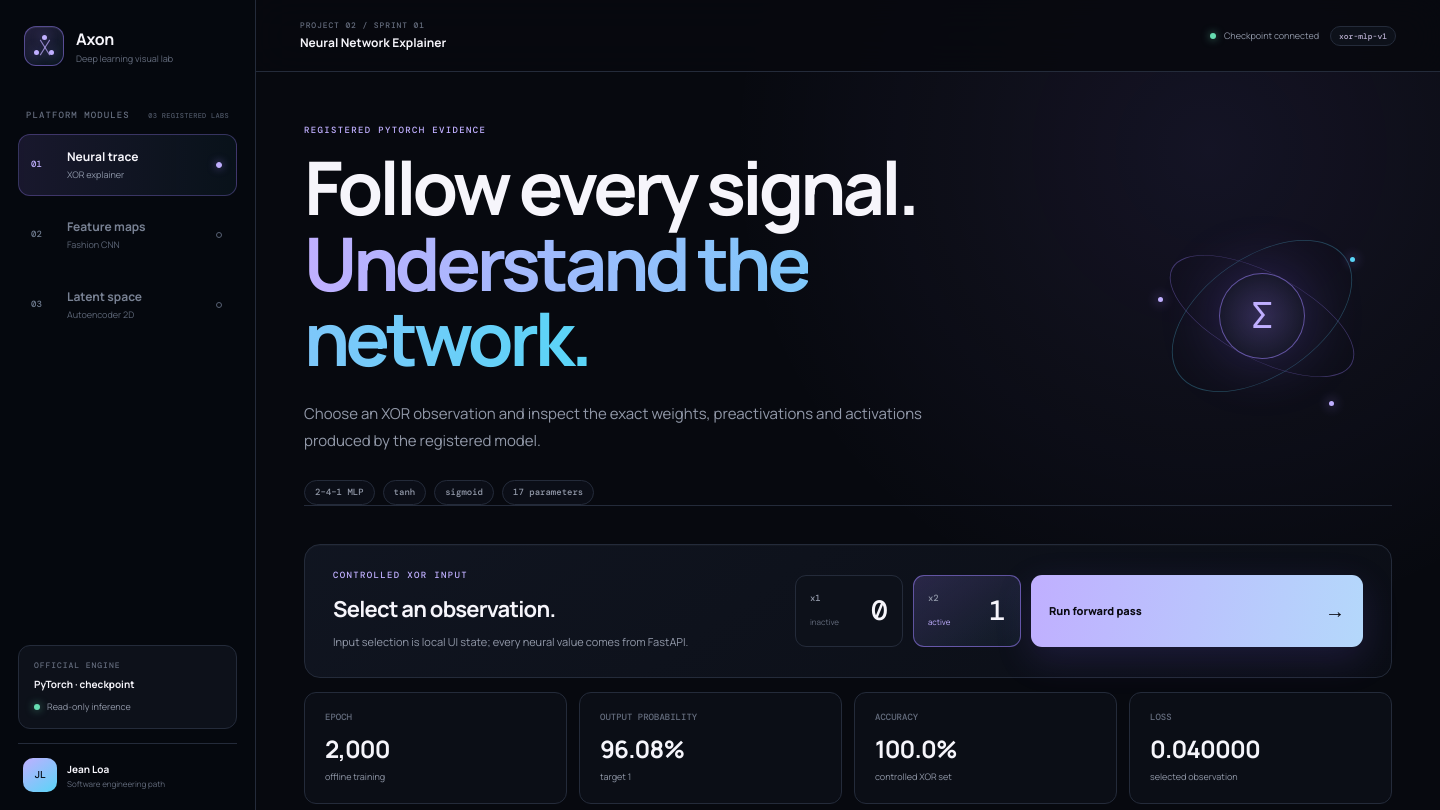
NeuralNetworkExplainer › requests a forward pass for the selected binary inputs
Expected: the text "96.08%" is shown, [600, 732, 684, 765]
Click the button with aria-label "Toggle x1".
click(849, 611)  # box [795, 575, 903, 647]
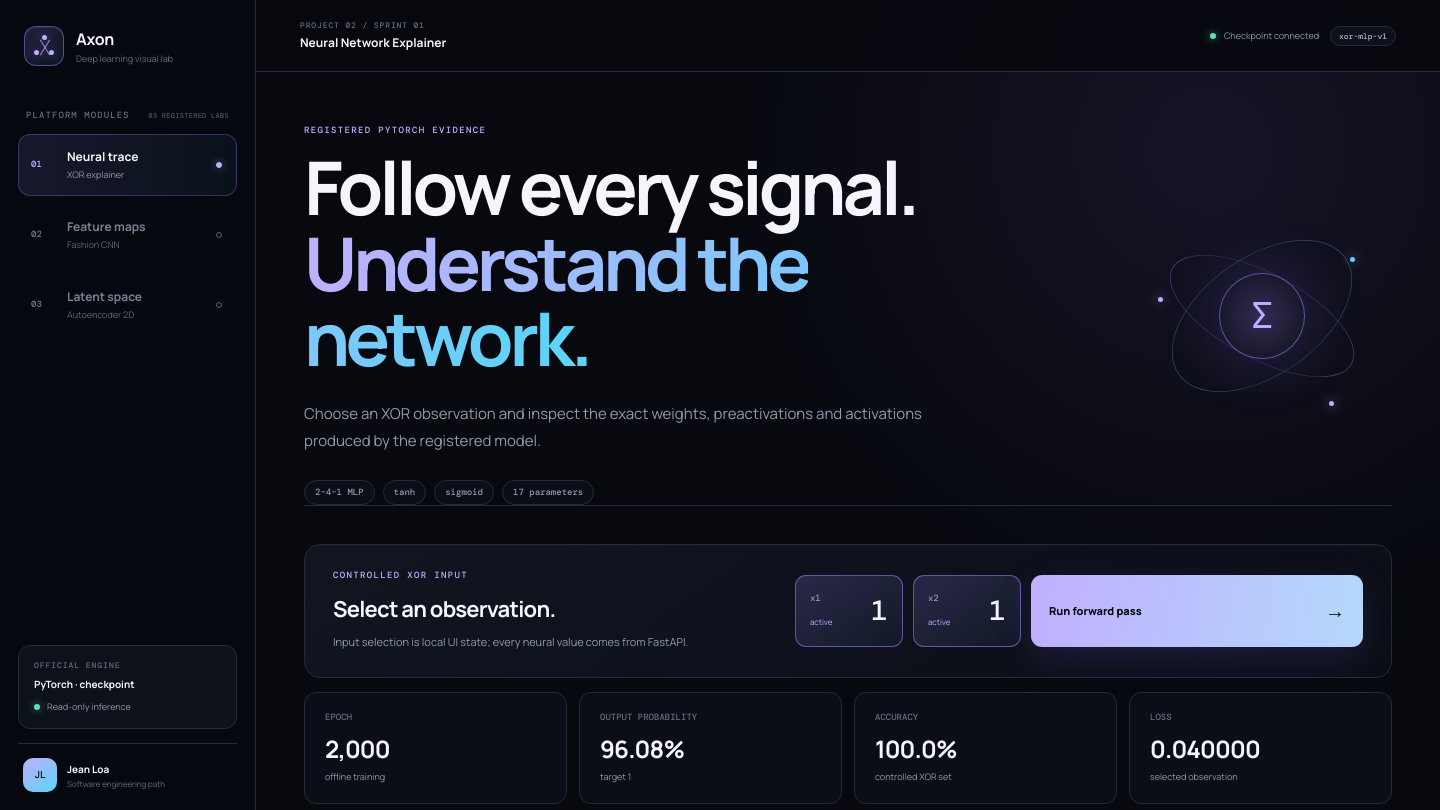
Click the button "Run forward pass →".
click(1095, 611)  # box [1031, 575, 1363, 647]
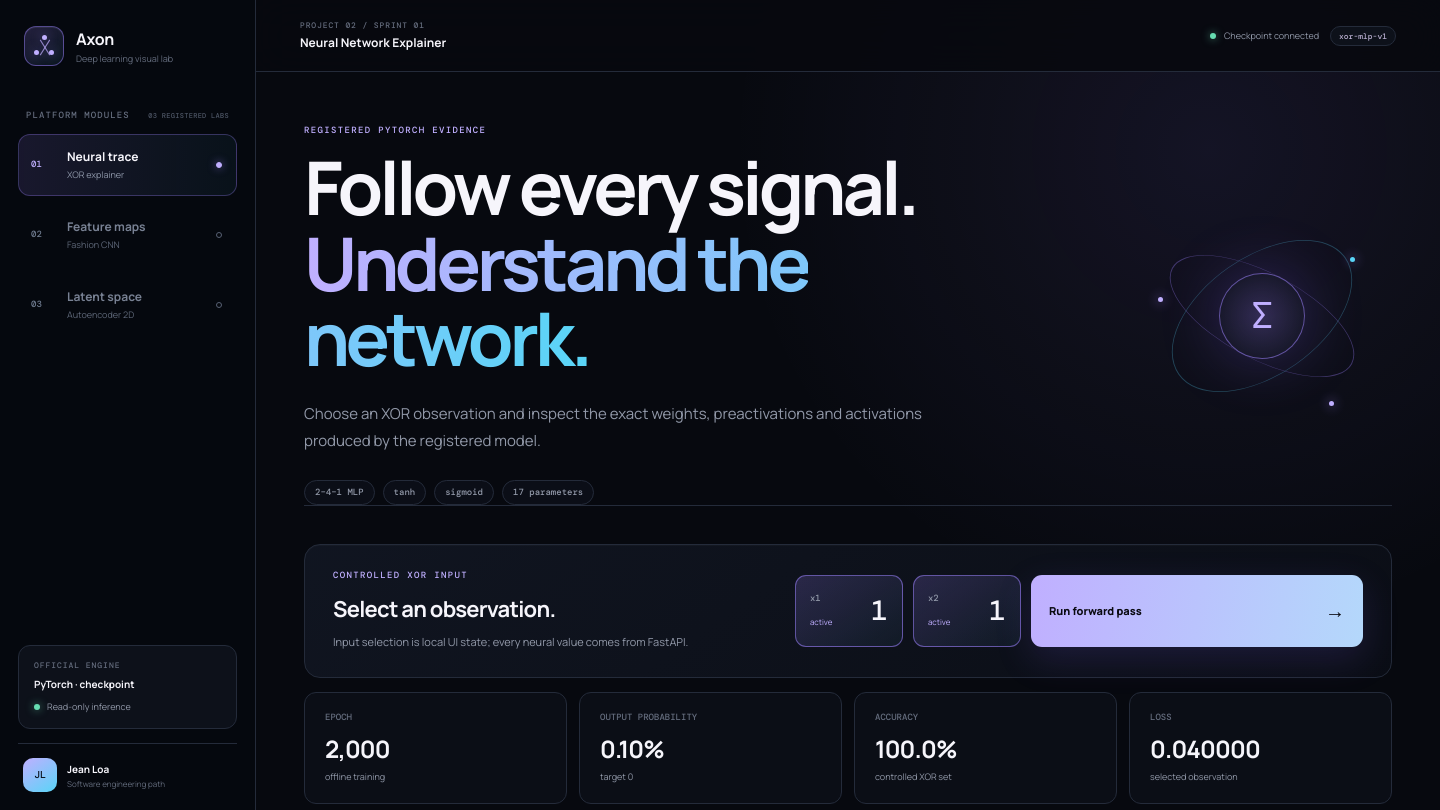
Expected: the text "0.10%" is shown, [600, 732, 664, 765]
